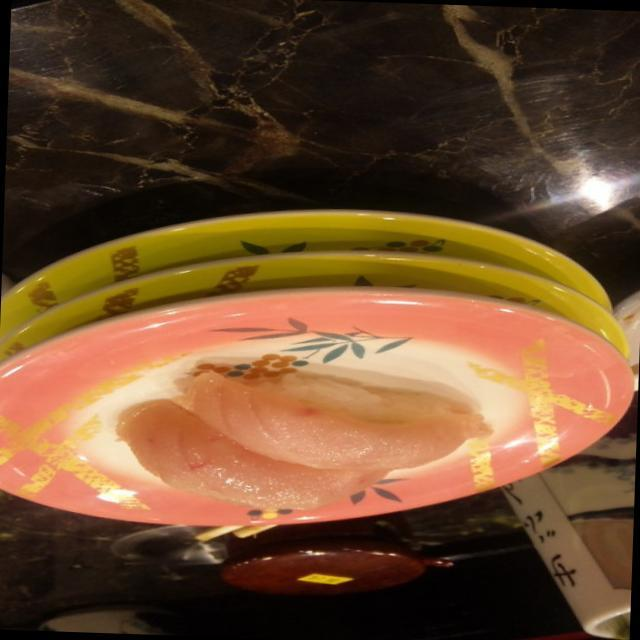Sushi: (121, 352, 482, 520)
